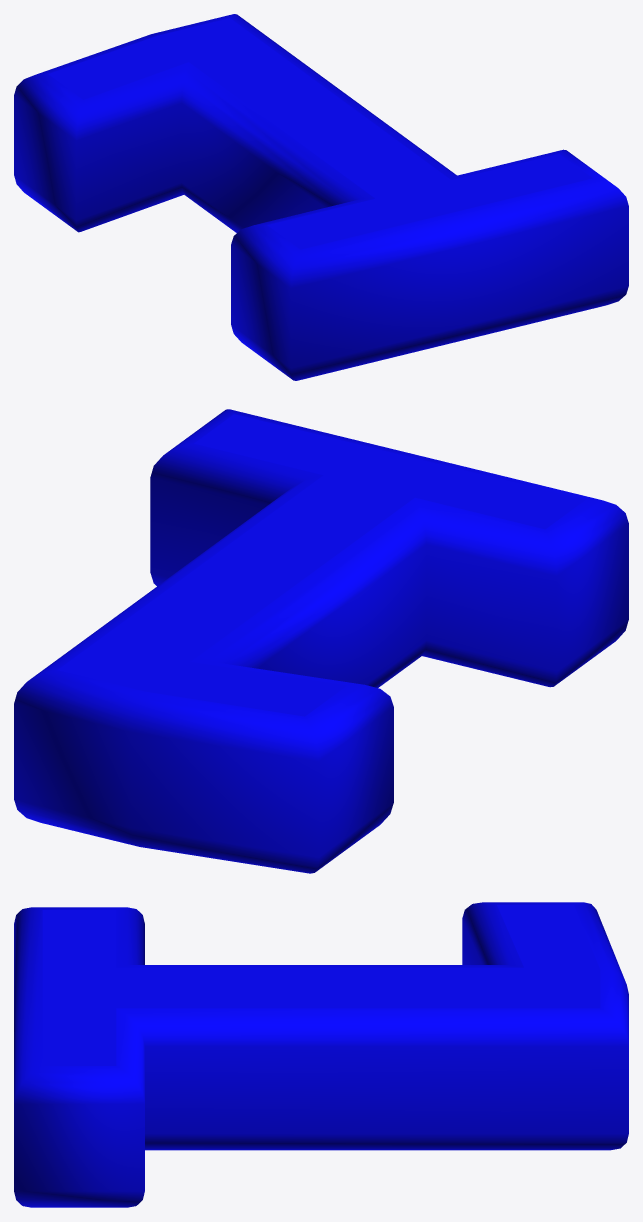
3 renders of one model, top to bottom at view 1: azimuth 30°, elevation 25°; view 2: azimuth 150°, elevation 25°; view 3: azimuth 270°, elevation 25°, orthographic. The views are drawn at different scales.
Parts seen in each view (by area): view 1: 185; view 2: 185; view 3: 185.
Part boxes in pixels (bbox=[...]): 185: bbox=[14, 14, 628, 380]; 185: bbox=[14, 409, 628, 873]; 185: bbox=[14, 902, 628, 1207].
Bounding box in the file's own units: 0.4575 × 0.16 × 0.6413.
